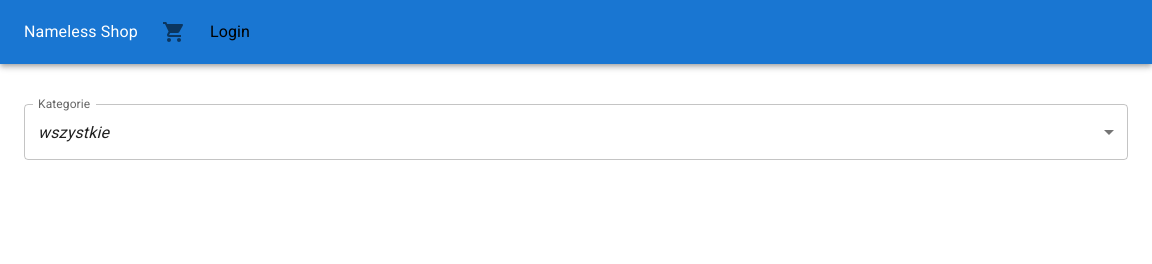
Test case: Shopping Cart › "Koszyk jest pusty" text is displayed when shopping cart is empty
The width and height of the screenshot is (1152, 264).
Click the link with class "cartButton": point(174, 32) [162, 20, 186, 44]
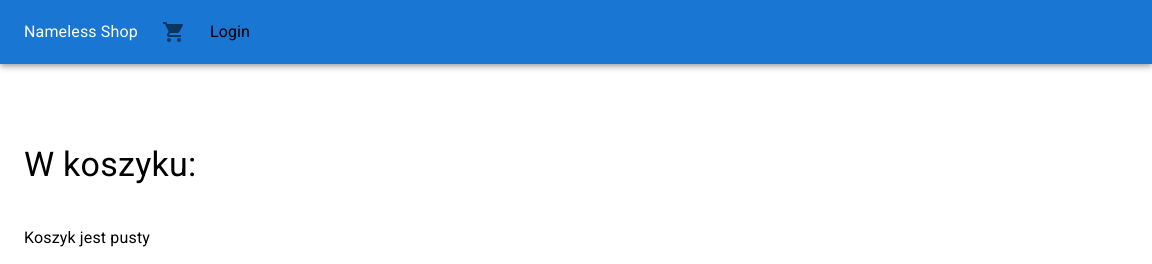
Expected: the heading with class "shoppingCartHeader" reads "W koszyku:", [24, 144, 196, 184]
Expected: the text with class "emptyShoppingCart" reads "Koszyk jest pusty", [24, 228, 150, 247]
